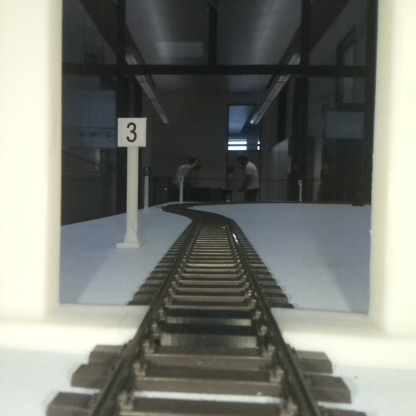white-info-3: (116, 117, 147, 245)
